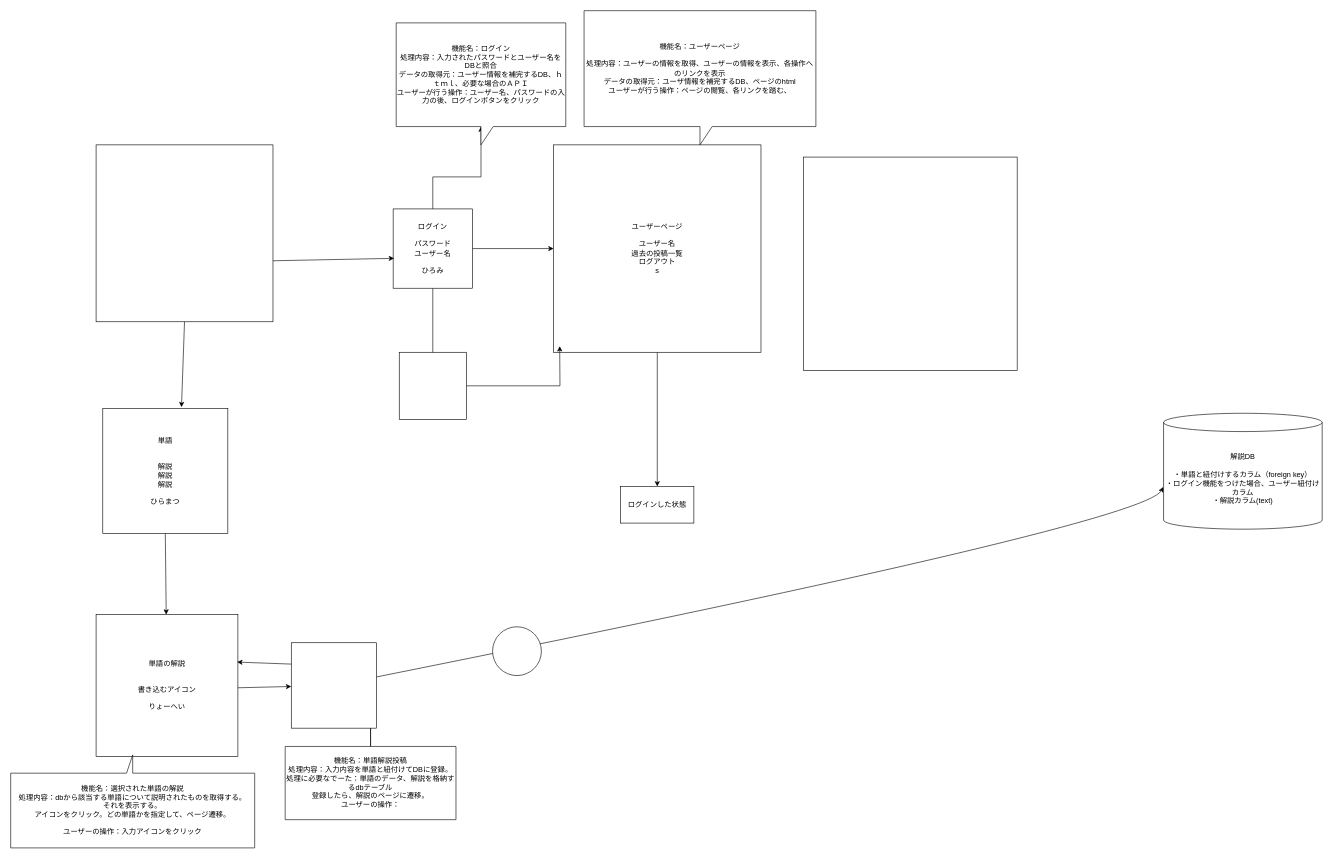
This 1333x859 diagram has some shape labels left out. The shapes that lost their labels are listed below. From the top down, each one's centre as x and y in pixels, then its label:
At point 184,233: "ホーム画面 検索窓 単語がずらり ひらまつ".
At point 910,263: "機能名 処理内容 処理に必要なデータ データの取得元 ユーザーが行い操作".
At point 432,385: "登録画面 名前 パスワード e-mail twitter,google API".
At point 516,651: "入力された解説データ".
At point 334,685: "解説 投稿 りょーへい".
